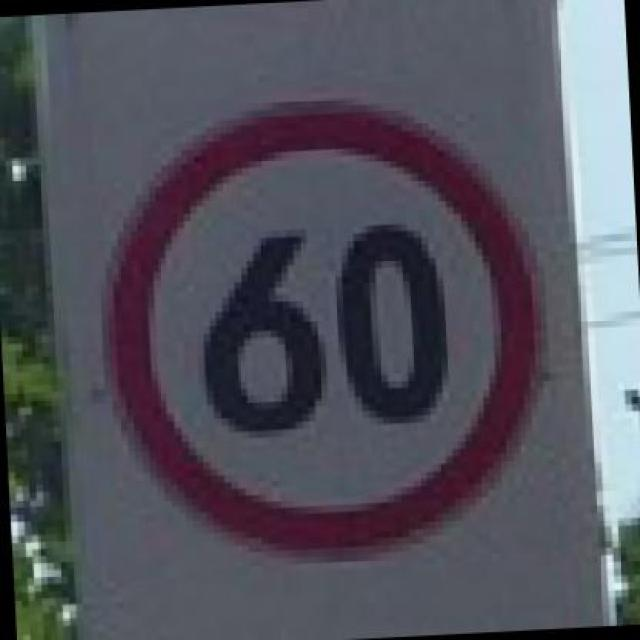Limite-60: (106, 101, 545, 557)
